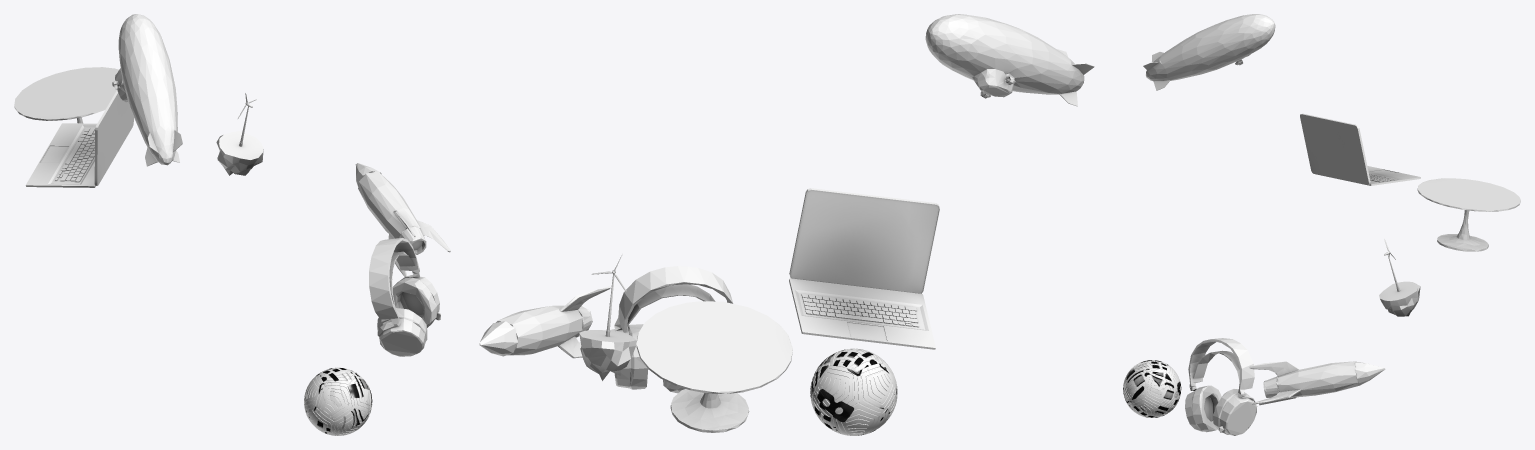
The model's file is nike.glb.
3 renders of one model, left to right at view 1: azimuth 30°, elevation 25°; view 2: azimuth 150°, elevation 25°; view 3: azimuth 270°, elevation 25°, orthographic. The views are drawn at different scales.
Parts seen in each view (by area): view 1: Zeppelin.001, Headphones.001, Notebook.001, Table.001, Nike, Rocket.001, Roundcube.002; view 2: Notebook.001, Table.001, Zeppelin.001, Nike, Rocket.001, Headphones.001, Roundcube.002; view 3: Zeppelin.001, Headphones.001, Notebook.001, Table.001, Rocket.001, Nike, Roundcube.002.
Boxes of the visible parts, x1,y1,x2,y2 form: Zeppelin.001: (112, 14, 182, 166); Headphones.001: (369, 238, 440, 356); Notebook.001: (25, 90, 133, 187); Table.001: (14, 67, 118, 123); Nike: (304, 367, 372, 435); Rocket.001: (355, 163, 450, 276); Roundcube.002: (216, 93, 263, 175); Notebook.001: (789, 188, 939, 349); Table.001: (636, 301, 792, 432); Zeppelin.001: (925, 14, 1094, 106); Nike: (810, 348, 897, 435); Rocket.001: (479, 286, 610, 358); Headphones.001: (610, 266, 733, 393); Roundcube.002: (579, 254, 636, 380); Zeppelin.001: (1143, 14, 1275, 90); Headphones.001: (1185, 338, 1257, 435); Notebook.001: (1300, 113, 1420, 185); Table.001: (1417, 178, 1520, 251); Rocket.001: (1249, 361, 1385, 405); Nike: (1123, 360, 1181, 417); Roundcube.002: (1379, 239, 1420, 316).
Size of the model in its own units: 18.79 by 20.03 by 21.04.
7 materials, 7 textured.
